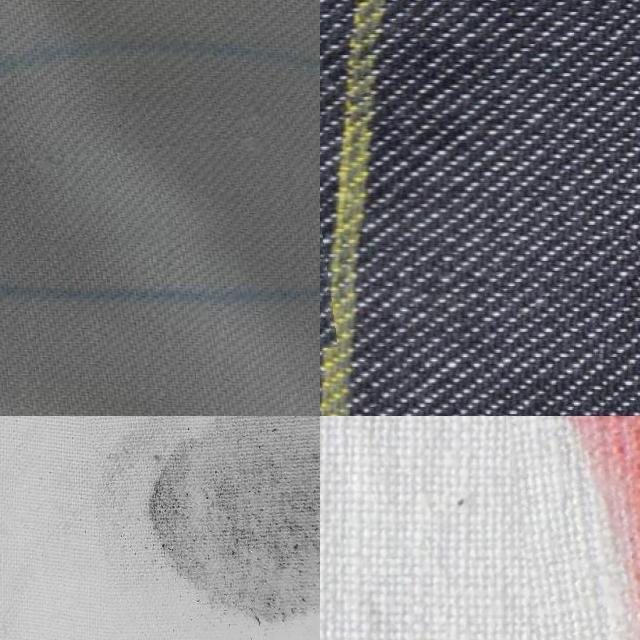Thread_other: (90, 416, 320, 640), (503, 416, 640, 640)
stains: (0, 82, 320, 257)
